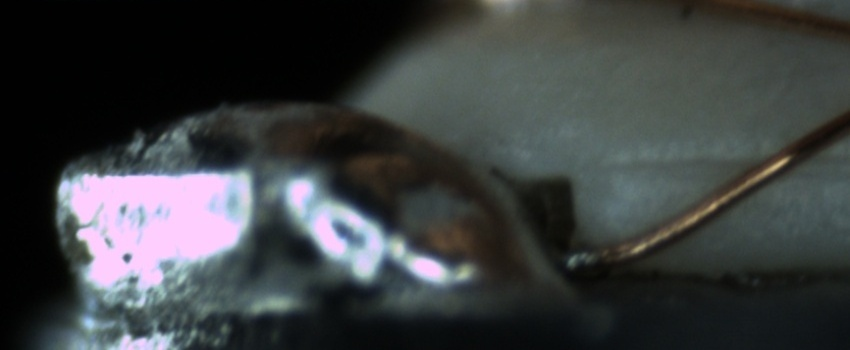DL: (611, 133, 849, 192)
